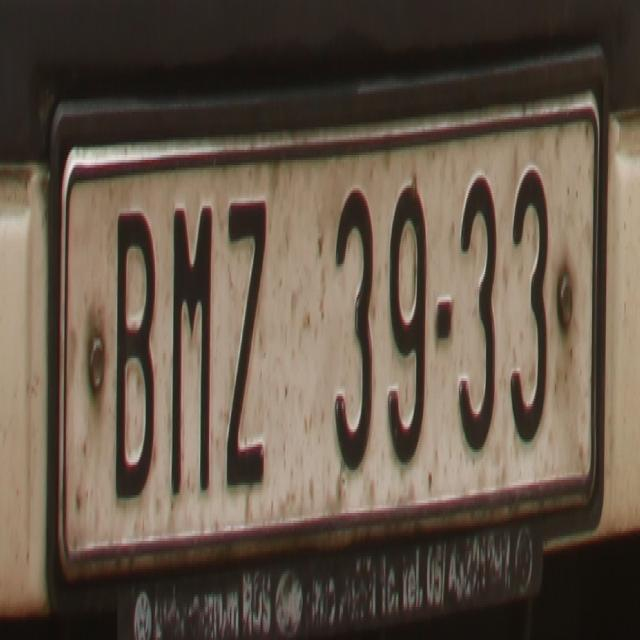3: (334, 188, 376, 470), (510, 160, 550, 455), (458, 165, 496, 455)
9: (389, 175, 427, 465)
B: (112, 195, 156, 506)
M: (166, 198, 214, 495)
Z: (224, 195, 270, 496)
